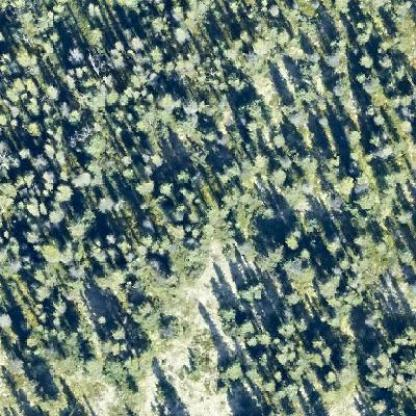tree-top: (358, 349, 398, 389), (235, 95, 265, 130), (74, 128, 106, 156), (153, 86, 180, 114), (132, 292, 158, 320), (12, 42, 40, 68), (236, 276, 265, 300), (36, 236, 62, 262), (315, 270, 340, 296), (155, 312, 181, 337), (90, 189, 118, 212), (220, 356, 244, 382), (278, 223, 302, 247), (340, 122, 364, 146), (64, 213, 87, 237), (63, 42, 88, 64), (44, 293, 66, 317), (215, 298, 238, 320), (132, 172, 155, 194), (167, 23, 190, 44), (83, 23, 104, 44), (274, 316, 294, 336), (252, 348, 272, 368), (22, 118, 44, 136), (356, 46, 374, 66)
